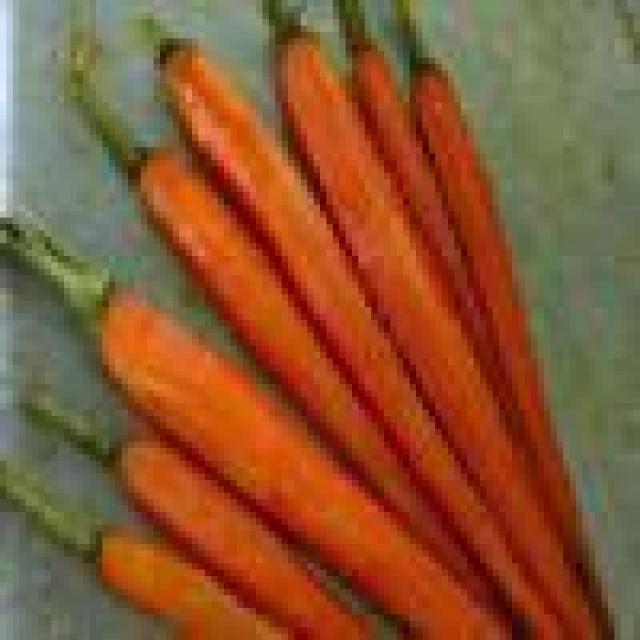Fresh_Carrot: (146, 5, 563, 640), (259, 0, 615, 640), (8, 236, 517, 640), (15, 396, 375, 640)
